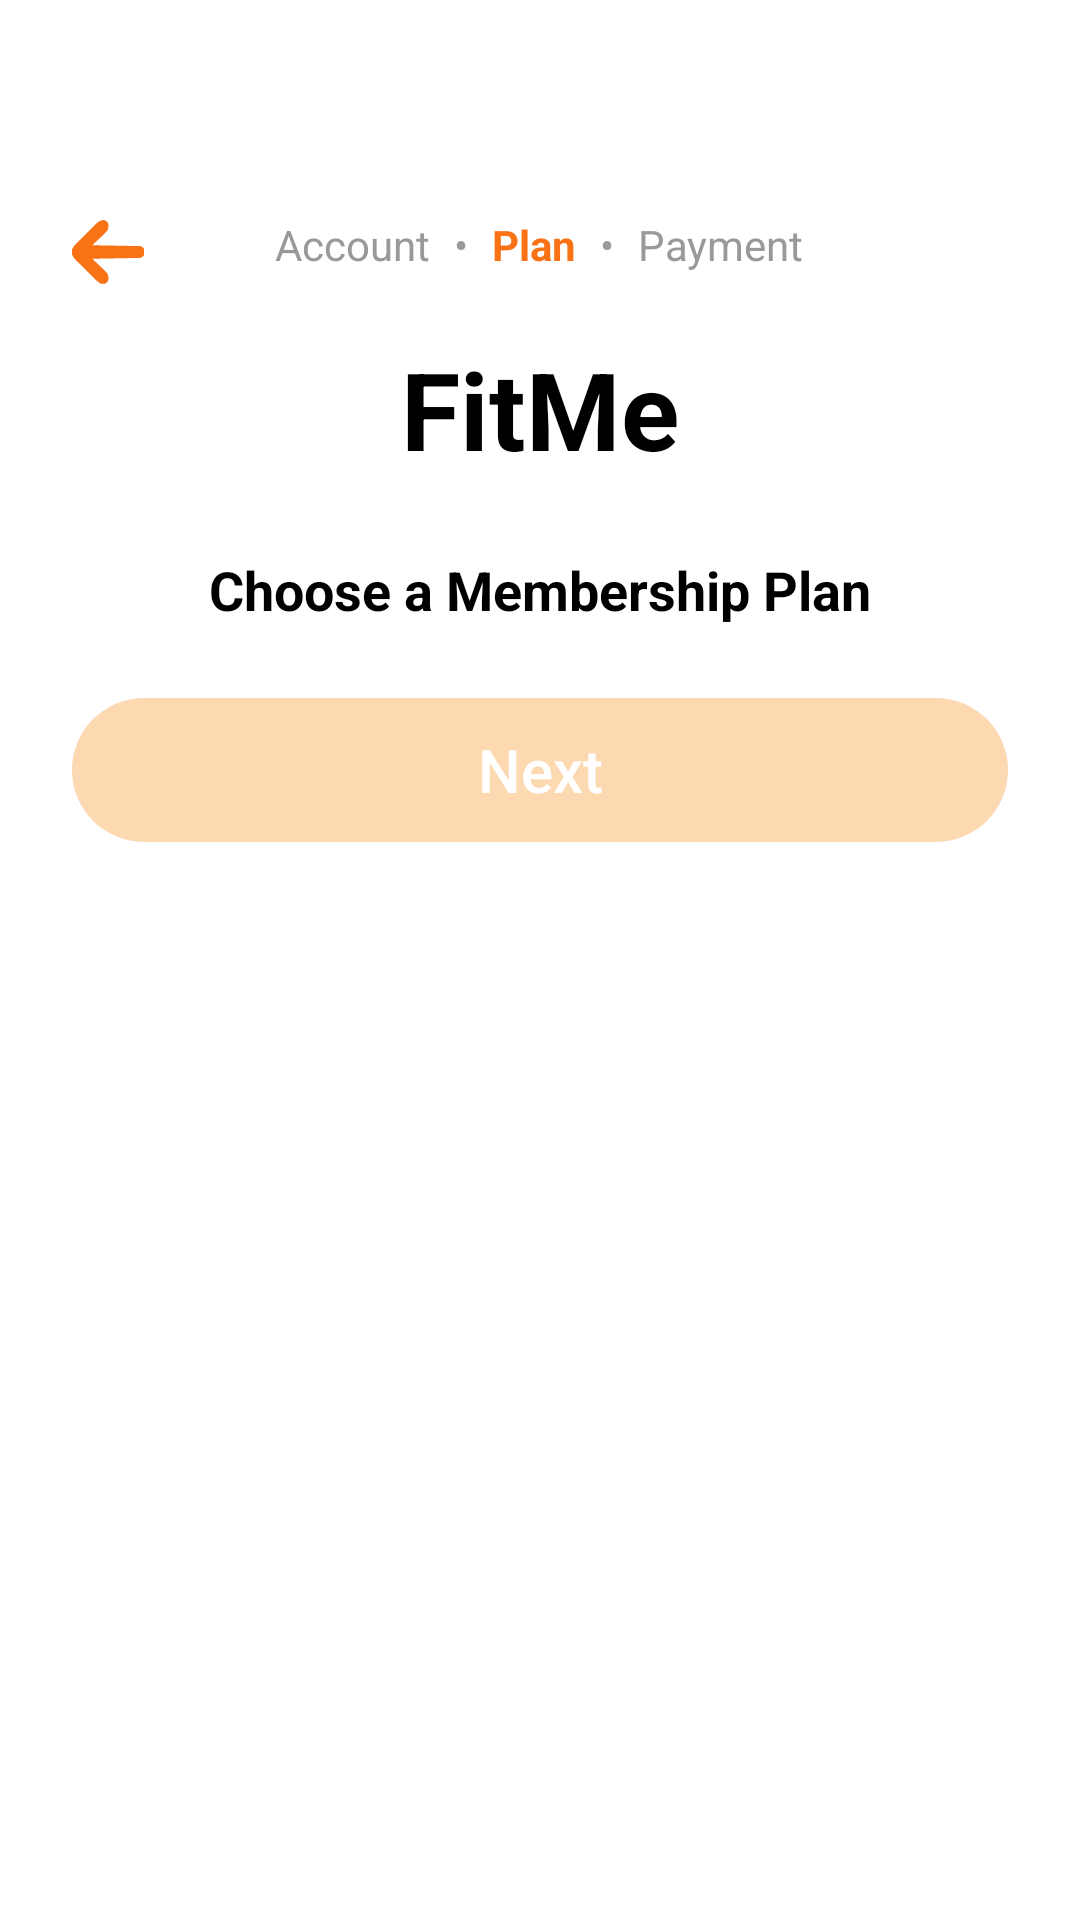

Locate icon controls on the screen. Image size 1080×1920, boxes as detection(x1, y1, x2, y2).
Back: detection(72, 220, 144, 284)
